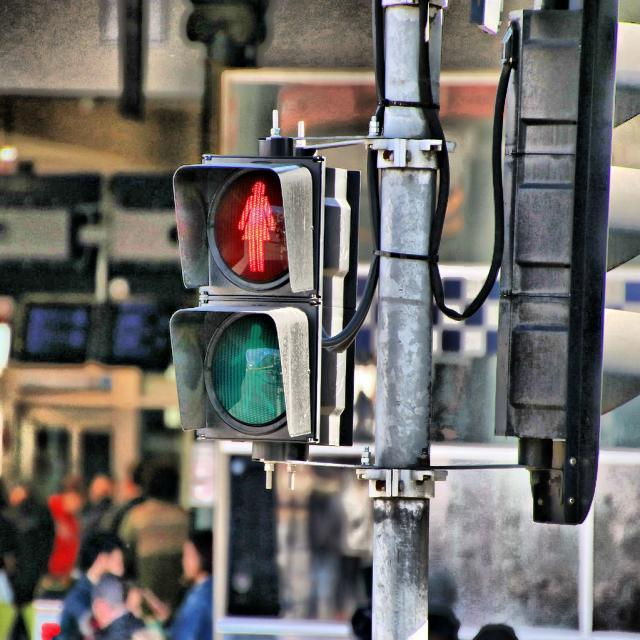red_light: (233, 173, 281, 280)
